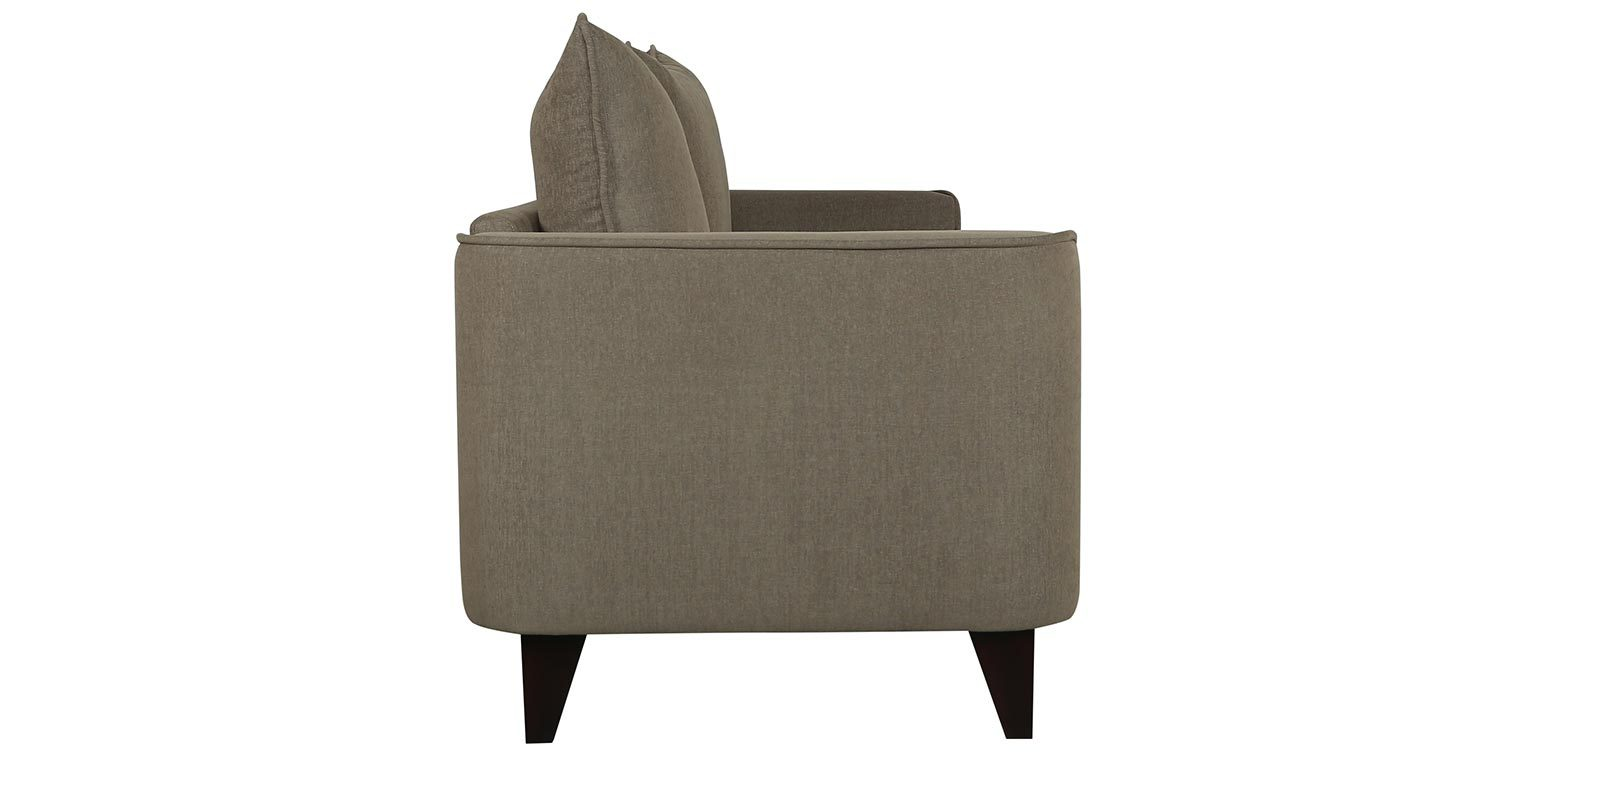Lara Three Seater Sofa in Sandy Brown Colour by CasaCraft: (456, 11, 1084, 744)
